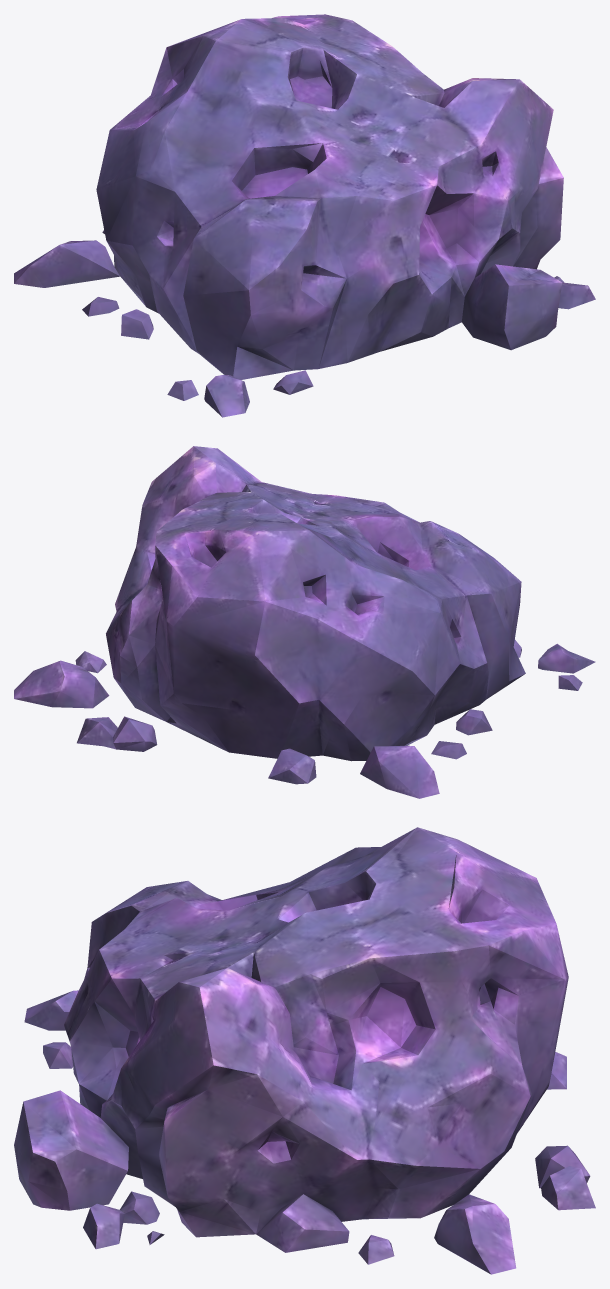
File: meteorite.glb
The picture shows the model from 3 angles, top to bottom: view 1: azimuth 30°, elevation 25°; view 2: azimuth 150°, elevation 25°; view 3: azimuth 270°, elevation 25°; orthographic projection. The views are drawn at different scales.
Visible parts, largest first — view 1: body; view 2: body; view 3: body.
Boxes of the visible parts, left/top/right/bottom form: body: left=14, top=14, right=595, bottom=417; body: left=14, top=446, right=595, bottom=798; body: left=14, top=827, right=595, bottom=1274.
Bounding box in the file's own units: 0.559 × 0.2577 × 0.4964.
Materials: 1 (1 with a texture image).
